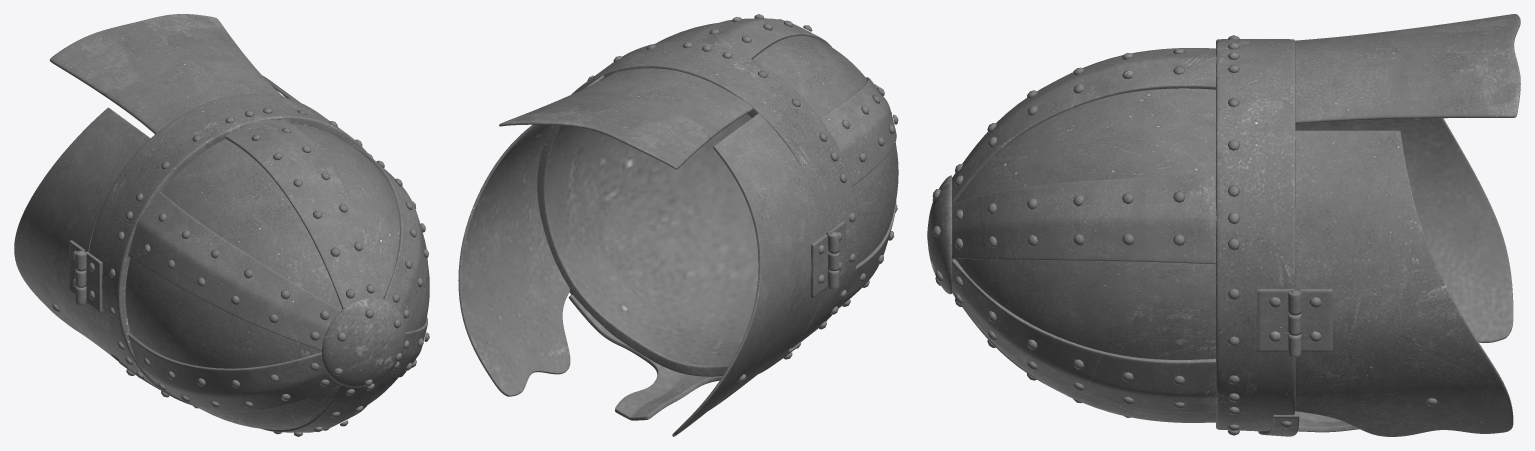
File: 13586_Spangehelm_Helmet_v1_L3.obj
3 renders of one model, left to right at view 1: azimuth 30°, elevation 25°; view 2: azimuth 150°, elevation 25°; view 3: azimuth 270°, elevation 25°, orthographic. The views are drawn at different scales.
Parts seen in each view (by area): view 1: Spangenhelm_Helmet, Spangenhelm_Helmet_TTrivet, Spangenhelm_Helmet1; view 2: Spangenhelm_Helmet, Spangenhelm_Helmet_TTrivet, Spangenhelm_Helmet1; view 3: Spangenhelm_Helmet, Spangenhelm_Helmet_TTrivet, Spangenhelm_Helmet2.
Part boxes in pixels (x1,y1,x2,y2): Spangenhelm_Helmet: (14, 14, 429, 432); Spangenhelm_Helmet_TTrivet: (52, 108, 429, 436); Spangenhelm_Helmet1: (69, 240, 102, 312); Spangenhelm_Helmet: (458, 18, 898, 436); Spangenhelm_Helmet_TTrivet: (587, 14, 898, 382); Spangenhelm_Helmet1: (811, 221, 845, 297); Spangenhelm_Helmet: (927, 14, 1520, 436); Spangenhelm_Helmet_TTrivet: (932, 35, 1437, 435); Spangenhelm_Helmet2: (1257, 288, 1332, 356).
Bounding box in the file's own units: 55.26 × 55.21 × 77.6.
1 material, 1 textured.
